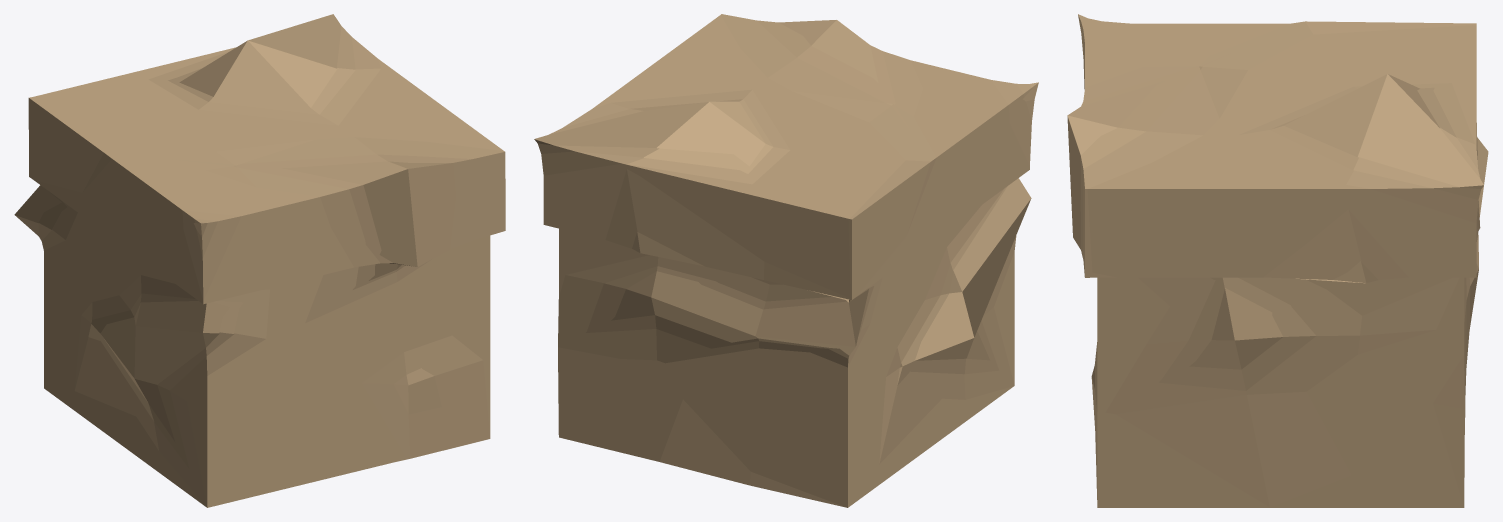
3 renders of one model, left to right at view 1: azimuth 30°, elevation 25°; view 2: azimuth 150°, elevation 25°; view 3: azimuth 270°, elevation 25°, orthographic. The views are drawn at different scales.
Parts seen in each view (by area): view 1: Box, BoxCrumbled1, BoxCrumbled3, BoxCrumbled2; view 2: Box, BoxCrumbled1, BoxCrumbled3, BoxCrumbled2; view 3: Box, BoxCrumbled1, BoxCrumbled3, BoxCrumbled2.
Part boxes in pixels (left/top/right/bottom): Box: left=32, top=47, right=503, bottom=507; BoxCrumbled1: left=28, top=37, right=505, bottom=507; BoxCrumbled3: left=14, top=14, right=456, bottom=441; BoxCrumbled2: left=38, top=26, right=475, bottom=468; Box: left=543, top=15, right=1029, bottom=507; BoxCrumbled1: left=541, top=14, right=1031, bottom=507; BoxCrumbled3: left=534, top=20, right=1038, bottom=360; BoxCrumbled2: left=537, top=20, right=1034, bottom=385; Box: left=1085, top=23, right=1476, bottom=507; BoxCrumbled1: left=1083, top=21, right=1478, bottom=507; BoxCrumbled3: left=1067, top=14, right=1488, bottom=369; BoxCrumbled2: left=1080, top=18, right=1480, bottom=430.
Bounding box in the file's own units: 1.12 × 1.22 × 1.15.
